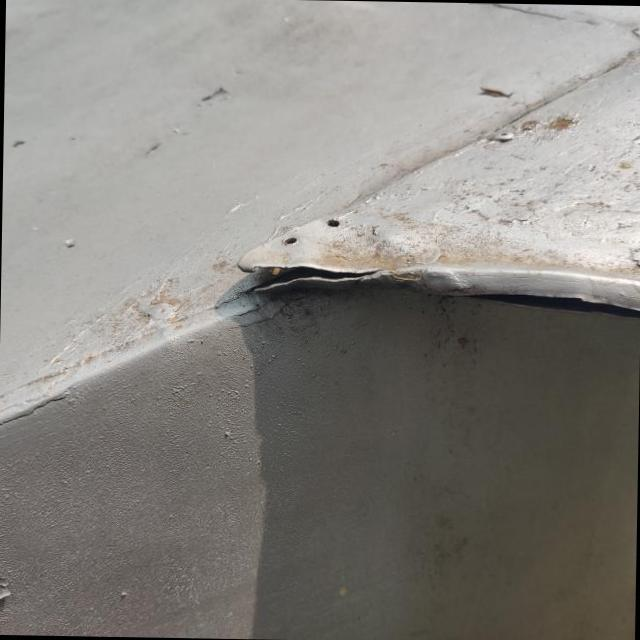Rupture: (222, 240, 393, 322)
